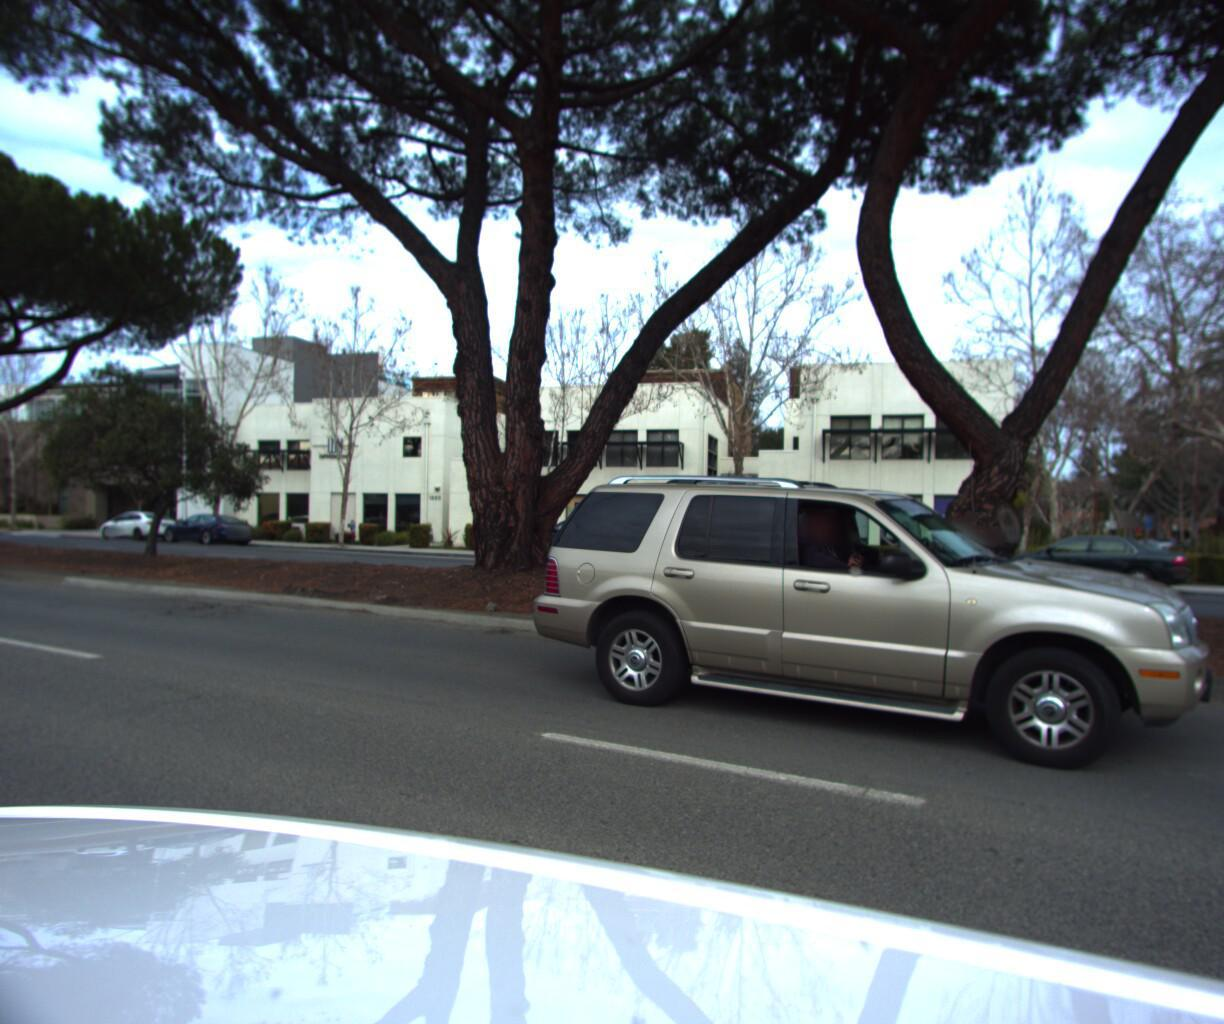car: (525, 457, 1212, 788), (968, 528, 1187, 594), (513, 516, 655, 570), (151, 515, 258, 551), (91, 514, 184, 548)
